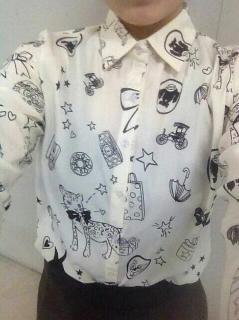long sleeve top: (0, 6, 239, 319)
skirt: (37, 259, 209, 319)
